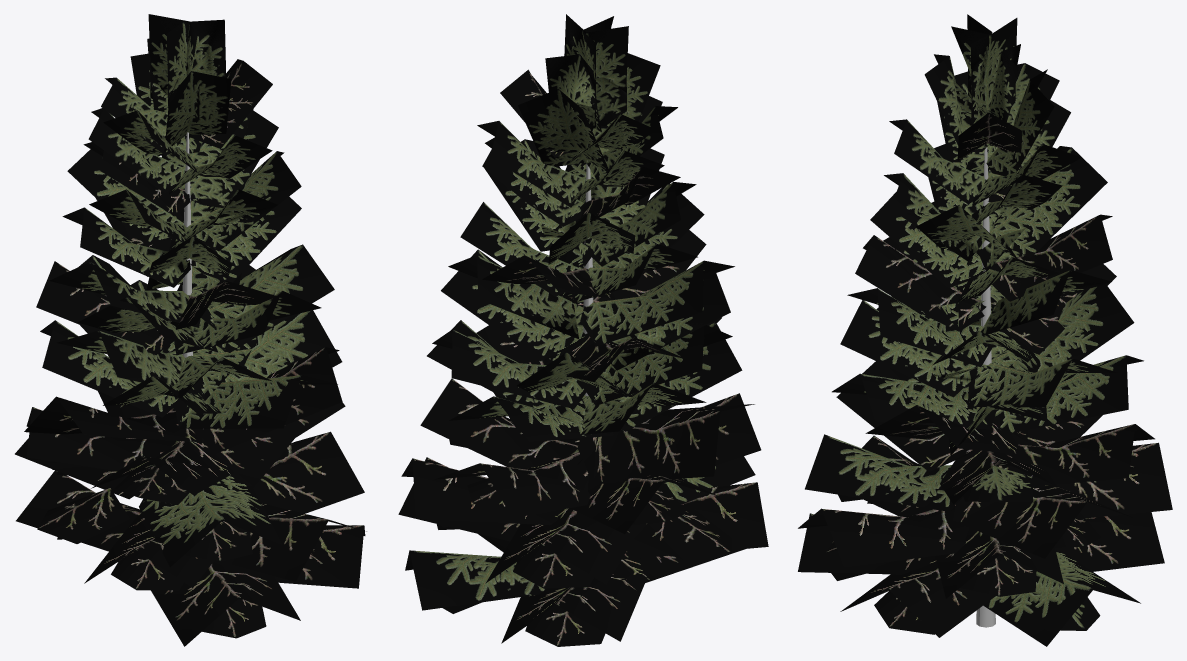
Rendered from fir05_30.dae.
3 views of the same model, side by side, from view 1: azimuth 30°, elevation 25°; view 2: azimuth 150°, elevation 25°; view 3: azimuth 270°, elevation 25° (orthographic). The views are drawn at different scales.
Parts seen in each view (by area): view 1: fir05_30; view 2: fir05_30; view 3: fir05_30.
Boxes of the visible parts, x1,y1,x2,y2 form: fir05_30: [15, 14, 366, 646]; fir05_30: [398, 14, 768, 646]; fir05_30: [798, 14, 1172, 646].
Bounding box in the file's own units: 63.94 × 68.99 × 121.
